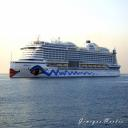cruises: (10, 35, 123, 80)
